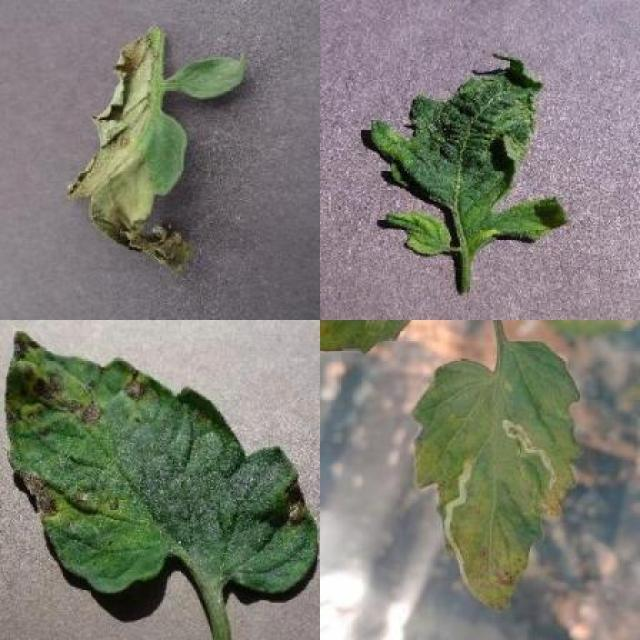Early Blight: (6, 329, 320, 597)
Late Blight: (66, 31, 191, 276)
Leaf Miner: (407, 338, 584, 612)
Mosaic Virus: (369, 50, 567, 257)
